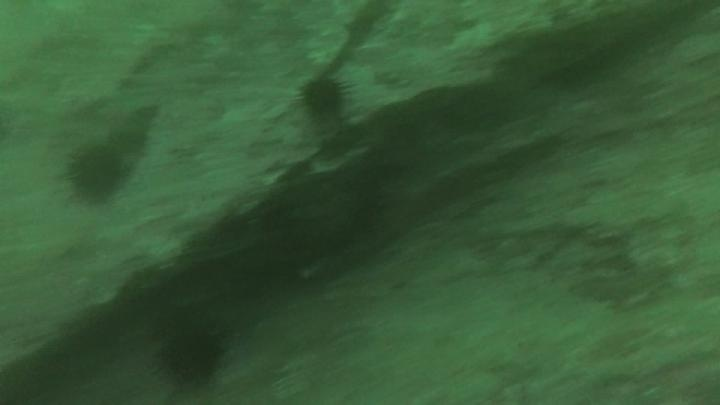echinus: (153, 319, 229, 390), (63, 139, 129, 205), (296, 71, 352, 121)
starfish: (87, 90, 161, 152)
